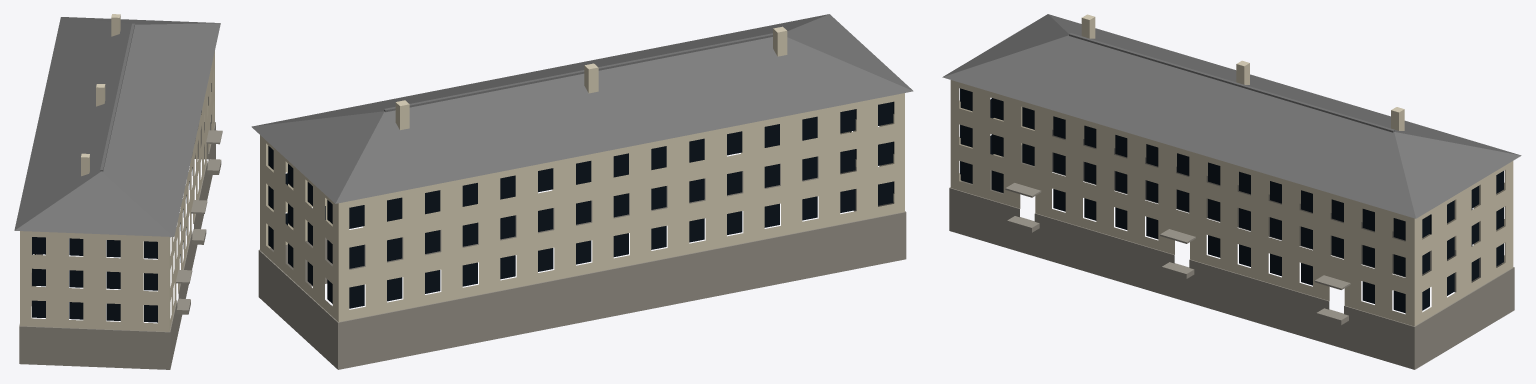
The picture shows the model from 3 angles, left to right: view 1: azimuth 30°, elevation 25°; view 2: azimuth 150°, elevation 25°; view 3: azimuth 270°, elevation 25°; orthographic projection. The views are drawn at different scales.
Parts seen in each view (by area): view 1: w91092515_roof, w91092515_wall, w91092515_stone, w91092515_glass; view 2: w91092515_wall, w91092515_roof, w91092515_stone, w91092515_glass; view 3: w91092515_wall, w91092515_roof, w91092515_stone, w91092515_glass.
Boxes of the visible parts, x1=… form: w91092515_roof: x1=14, y1=17, x2=220, y2=236; w91092515_wall: x1=20, y1=14, x2=214, y2=331; w91092515_stone: x1=19, y1=122, x2=222, y2=369; w91092515_glass: x1=32, y1=83, x2=211, y2=322; w91092515_wall: x1=260, y1=26, x2=904, y2=321; w91092515_roof: x1=251, y1=14, x2=913, y2=203; w91092515_stone: x1=258, y1=156, x2=906, y2=369; w91092515_glass: x1=268, y1=101, x2=894, y2=308; w91092515_wall: x1=950, y1=14, x2=1513, y2=326; w91092515_roof: x1=942, y1=14, x2=1521, y2=218; w91092515_stone: x1=949, y1=129, x2=1514, y2=369; w91092515_glass: x1=960, y1=88, x2=1503, y2=313.
Size of the model in its own units: 39.91 by 18.2 by 47.73.
